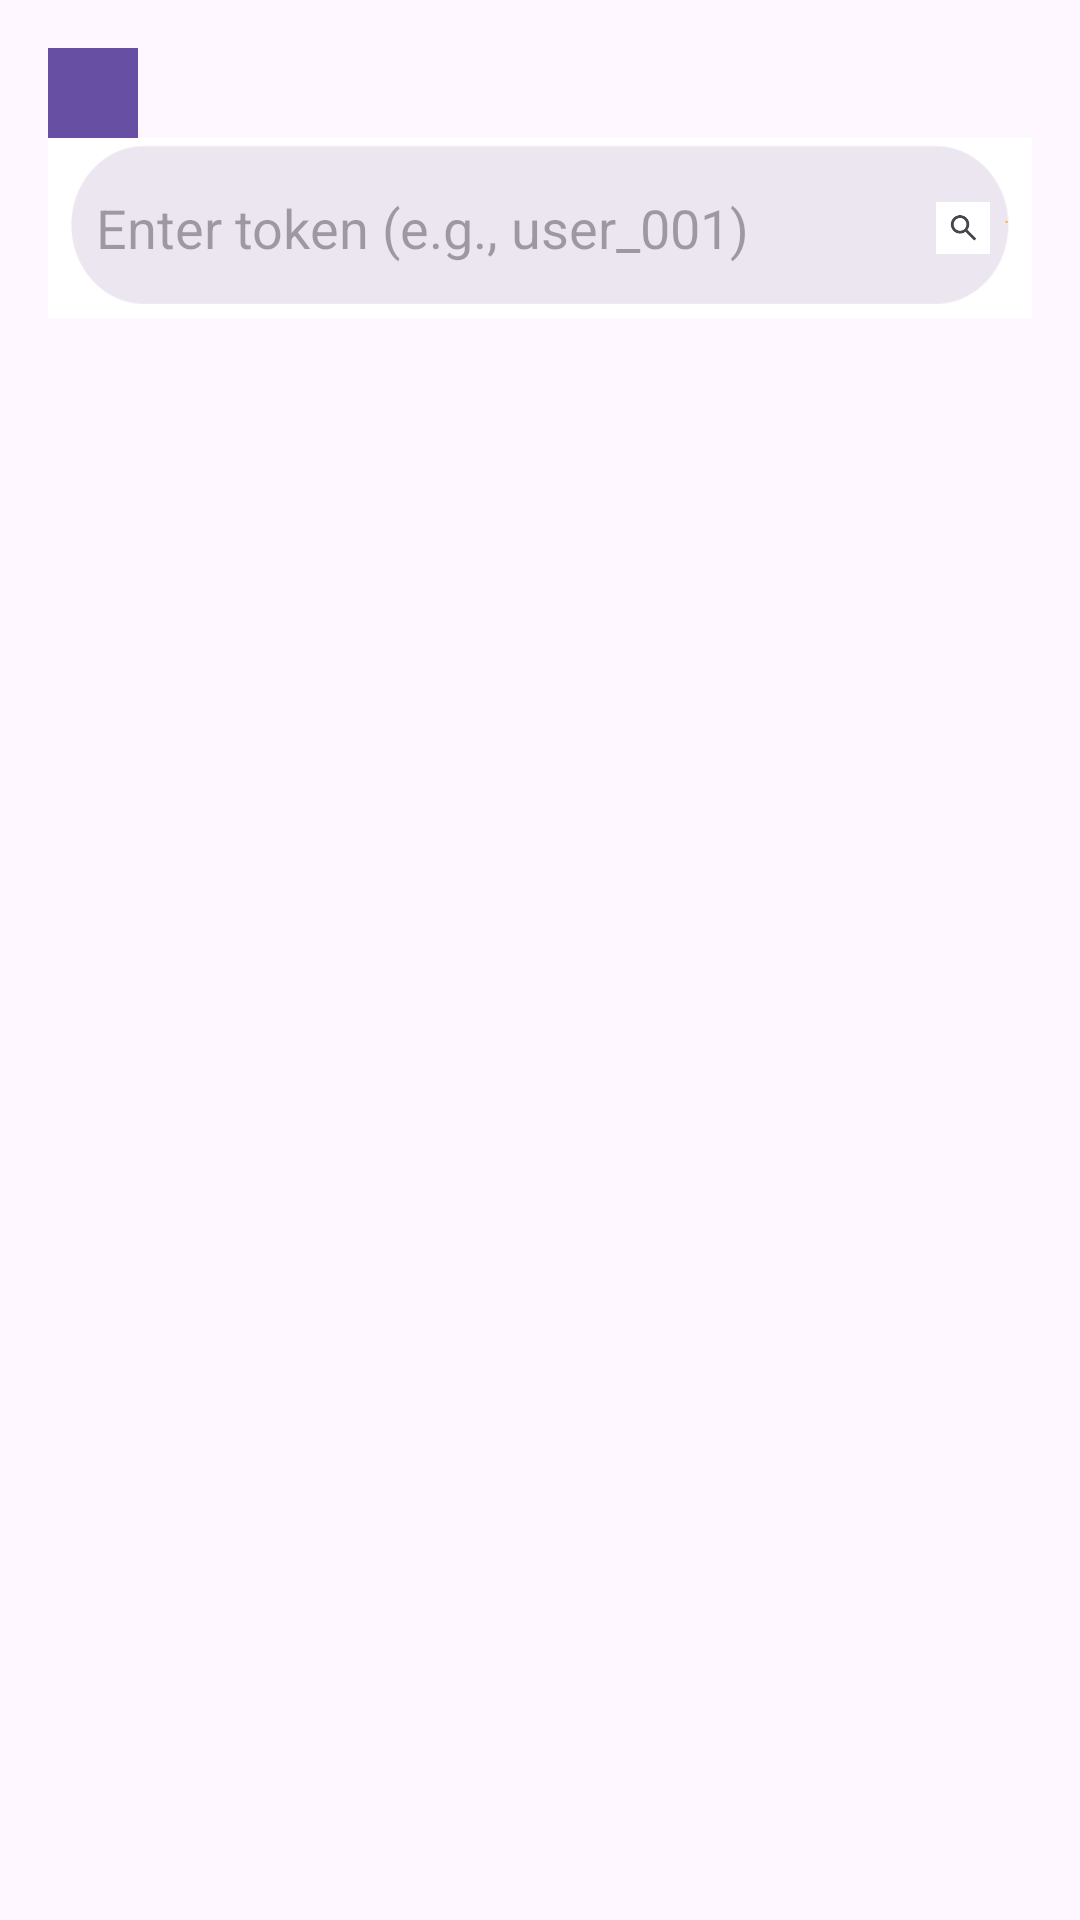

Named icons in this screenshot (1080 × 1920) and their bounding boxes, detection(x1, y1, x2, y2):
Search Button: detection(936, 202, 1008, 254)
